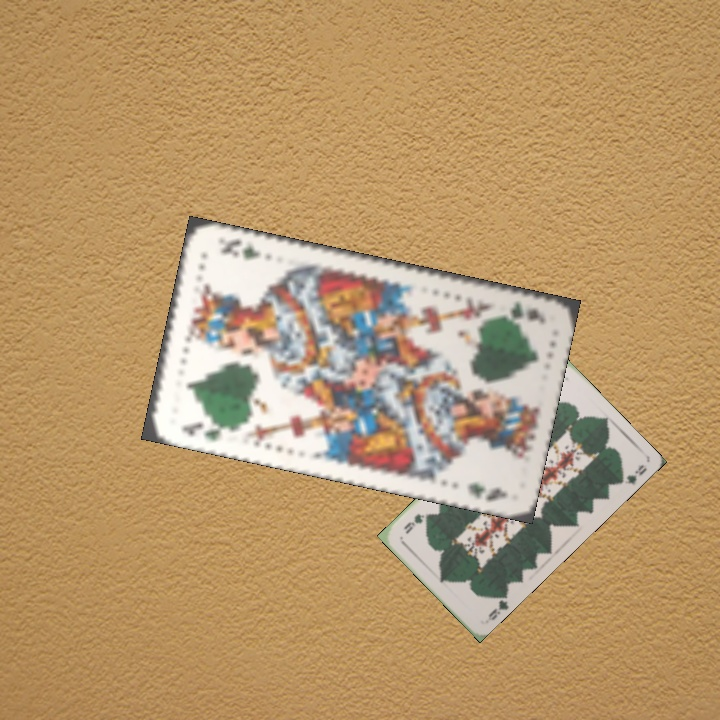G9: (482, 590, 510, 625)
GK: (493, 298, 549, 327), (177, 417, 229, 444)
